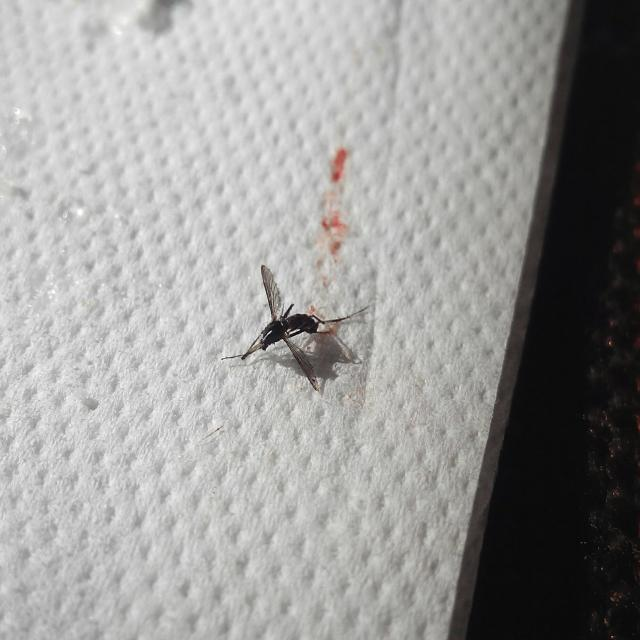albopictus: (219, 252, 375, 400)
